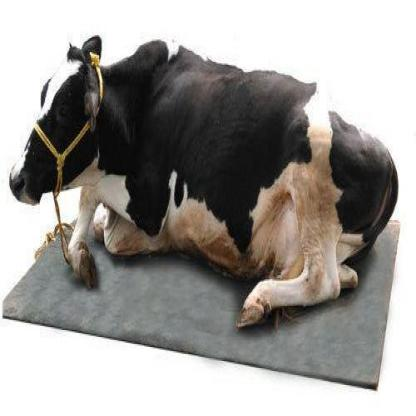cow: (8, 37, 398, 330)
